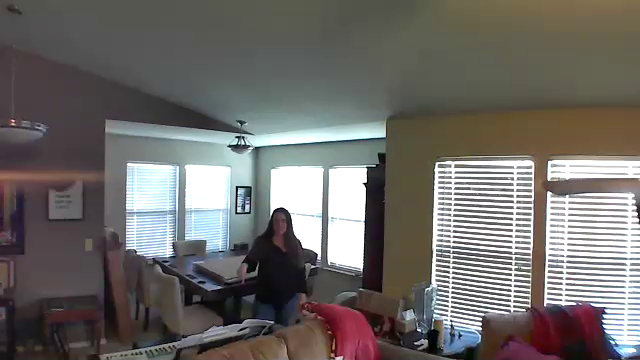down: (228, 259, 250, 288)
